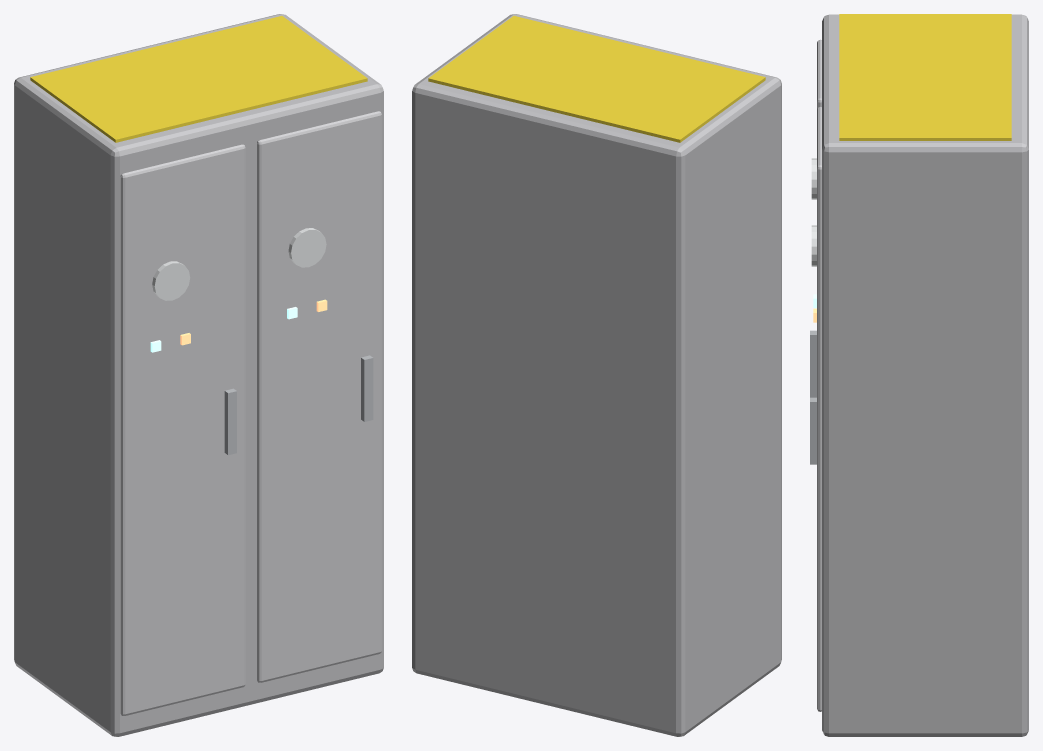
File: swgear.fbx
The picture shows the model from 3 angles, left to right: view 1: azimuth 30°, elevation 25°; view 2: azimuth 150°, elevation 25°; view 3: azimuth 270°, elevation 25°; orthographic projection.
Visible parts, largest first — view 1: swgear; view 2: swgear; view 3: swgear.
Boxes of the visible parts, left/top/right/bottom form: swgear: left=14, top=14, right=383, bottom=736; swgear: left=412, top=14, right=781, bottom=736; swgear: left=810, top=14, right=1028, bottom=736.
Bounding box in the file's own units: 0.92 × 1.91 × 0.635.
